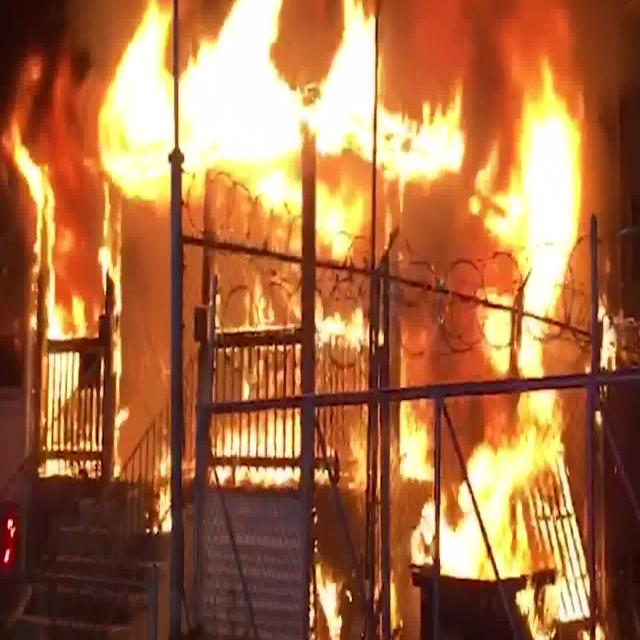fire: (119, 9, 390, 170), (511, 95, 576, 326), (426, 438, 530, 575)
